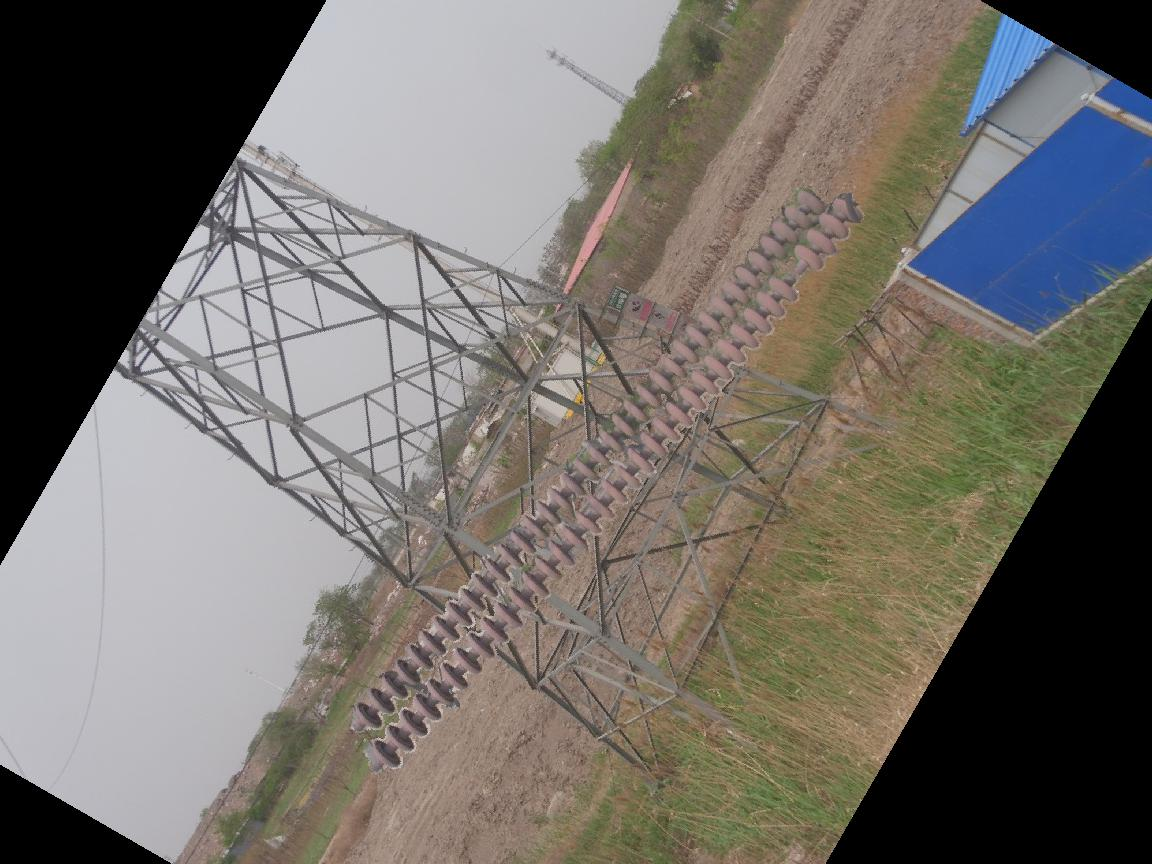insulator: (350, 183, 866, 781)
insulator_stringdrop: (766, 242, 826, 303)
